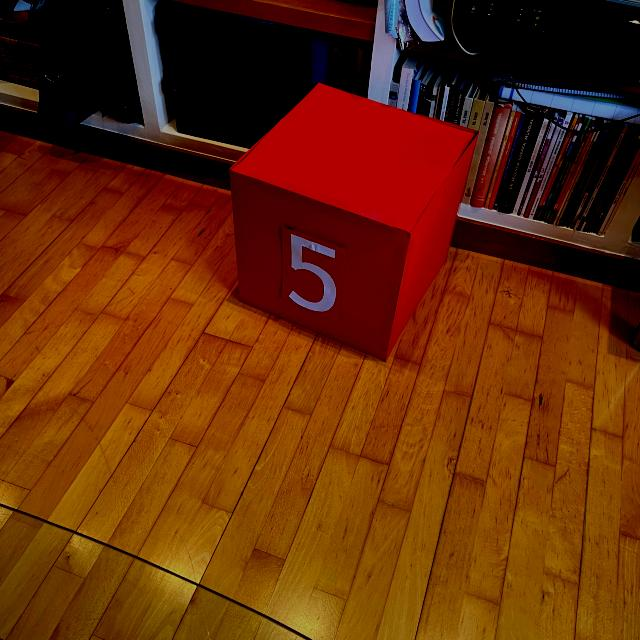box: (225, 80, 480, 363)
